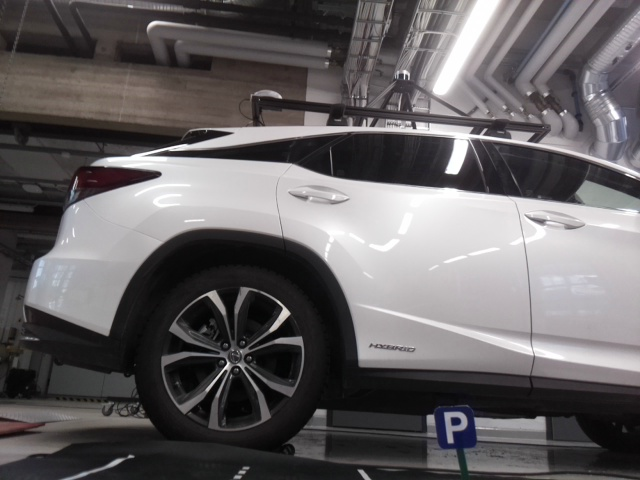Parking: (432, 406, 477, 449)
